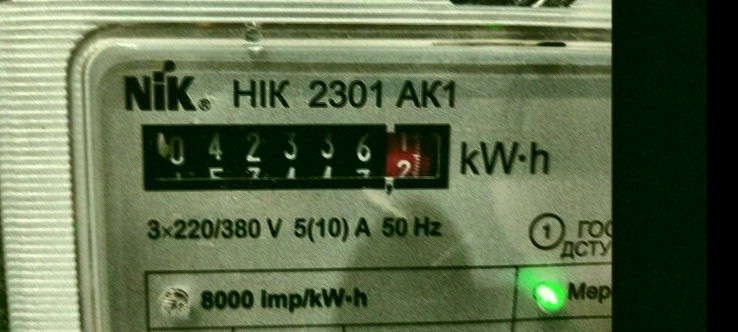0: (165, 132, 184, 165)
1: (395, 126, 407, 152)
2: (241, 128, 262, 162), (392, 157, 409, 178)
3: (278, 127, 296, 159), (317, 127, 334, 159)
4: (205, 128, 222, 160)
6: (352, 129, 372, 163)
screen: (127, 109, 462, 200)
